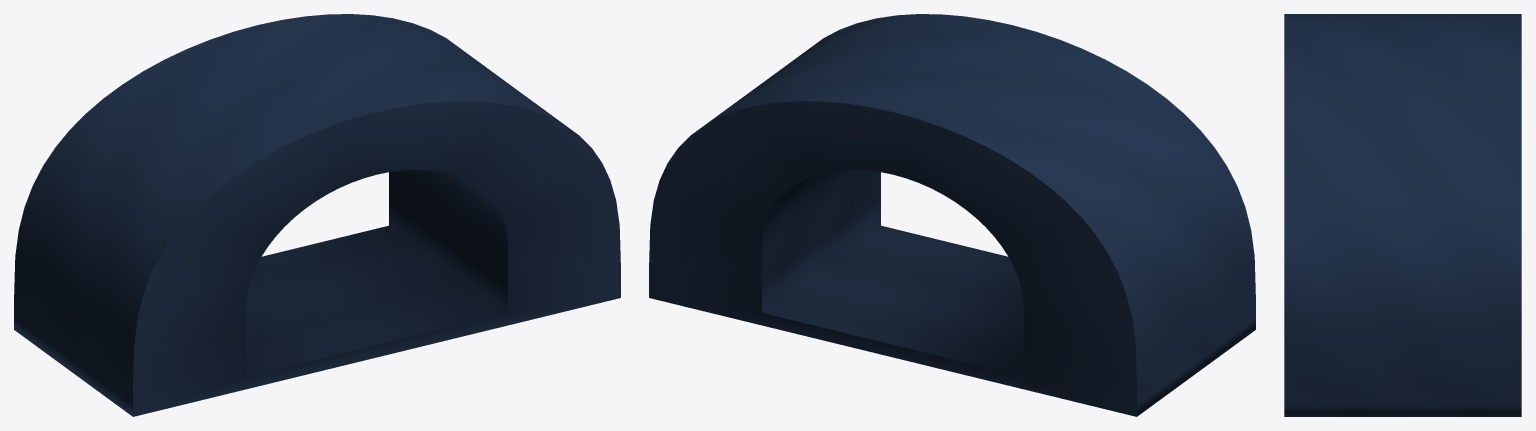
The model's file is straight_12m_terrain.glb.
3 renders of one model, left to right at view 1: azimuth 30°, elevation 25°; view 2: azimuth 150°, elevation 25°; view 3: azimuth 270°, elevation 25°, orthographic.
Visible parts, largest first — view 1: TerrainRoof.004; view 2: TerrainRoof.004; view 3: TerrainRoof.004.
Part boxes in pixels (x1,y1,x2,y2): TerrainRoof.004: [14, 14, 620, 416]; TerrainRoof.004: [649, 14, 1255, 416]; TerrainRoof.004: [1284, 14, 1521, 416].
Bounding box in the file's own units: 28.4 × 13.65 × 12.
